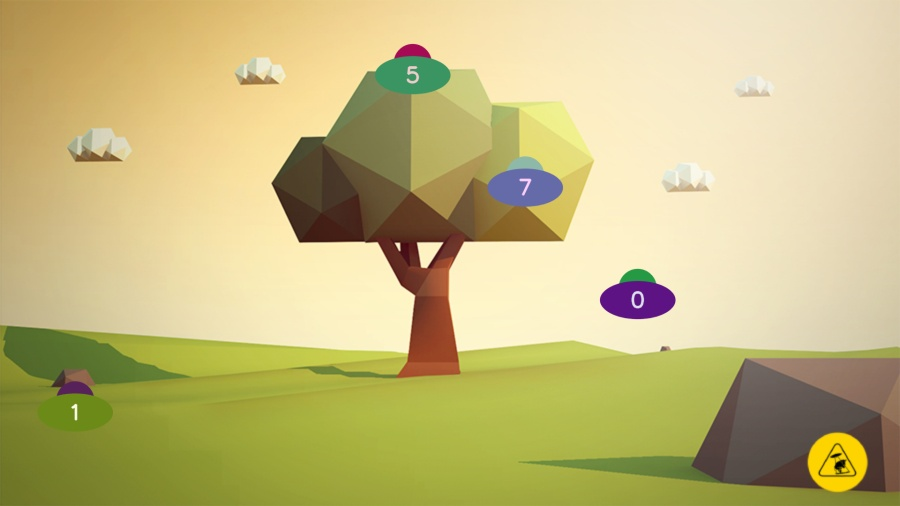ufo: (599, 268, 677, 320), (488, 156, 564, 208), (375, 43, 451, 95)
